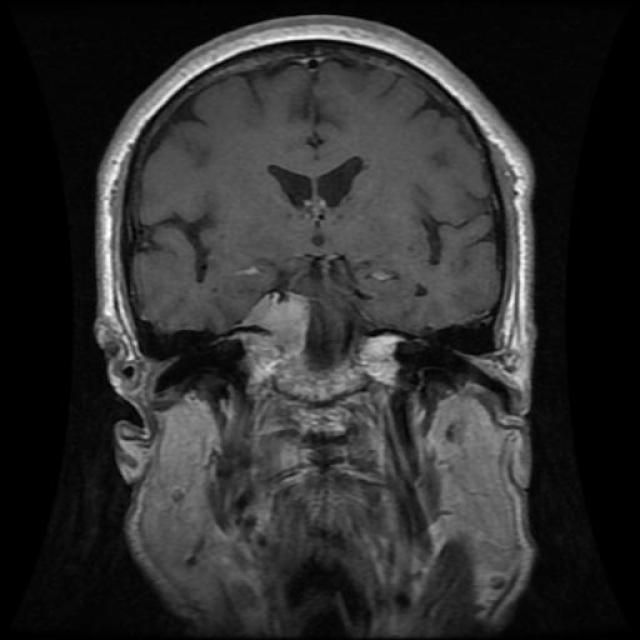meningioma: (241, 292, 310, 356)
